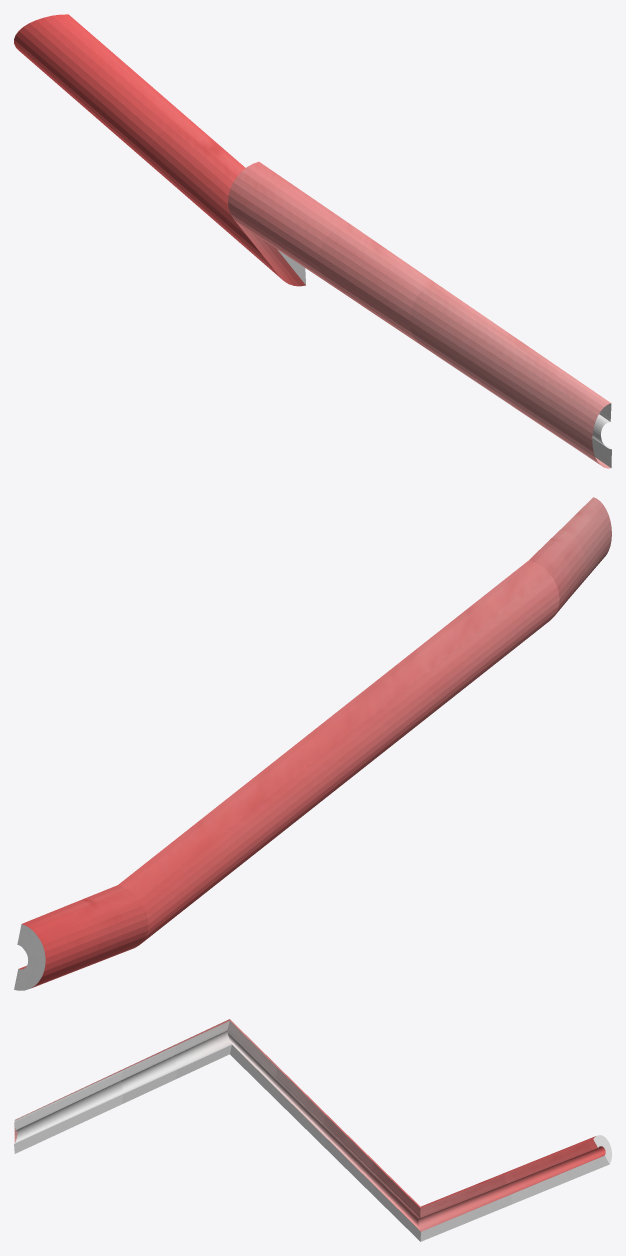
The model's file is Nervio Optico.FBX.
The picture shows the model from 3 angles, top to bottom: view 1: azimuth 30°, elevation 25°; view 2: azimuth 150°, elevation 25°; view 3: azimuth 270°, elevation 25°; orthographic projection. The views are drawn at different scales.
Parts seen in each view (by area): view 1: sclera right; view 2: sclera right; view 3: sclera right.
Part boxes in pixels (left/top/right/bottom): sclera right: left=14, top=14, right=611, bottom=468; sclera right: left=14, top=497, right=611, bottom=990; sclera right: left=14, top=1019, right=611, bottom=1241.
Bounding box in the file's own units: 0.3134 × 0.3595 × 1.2.
1 material, 1 textured.
